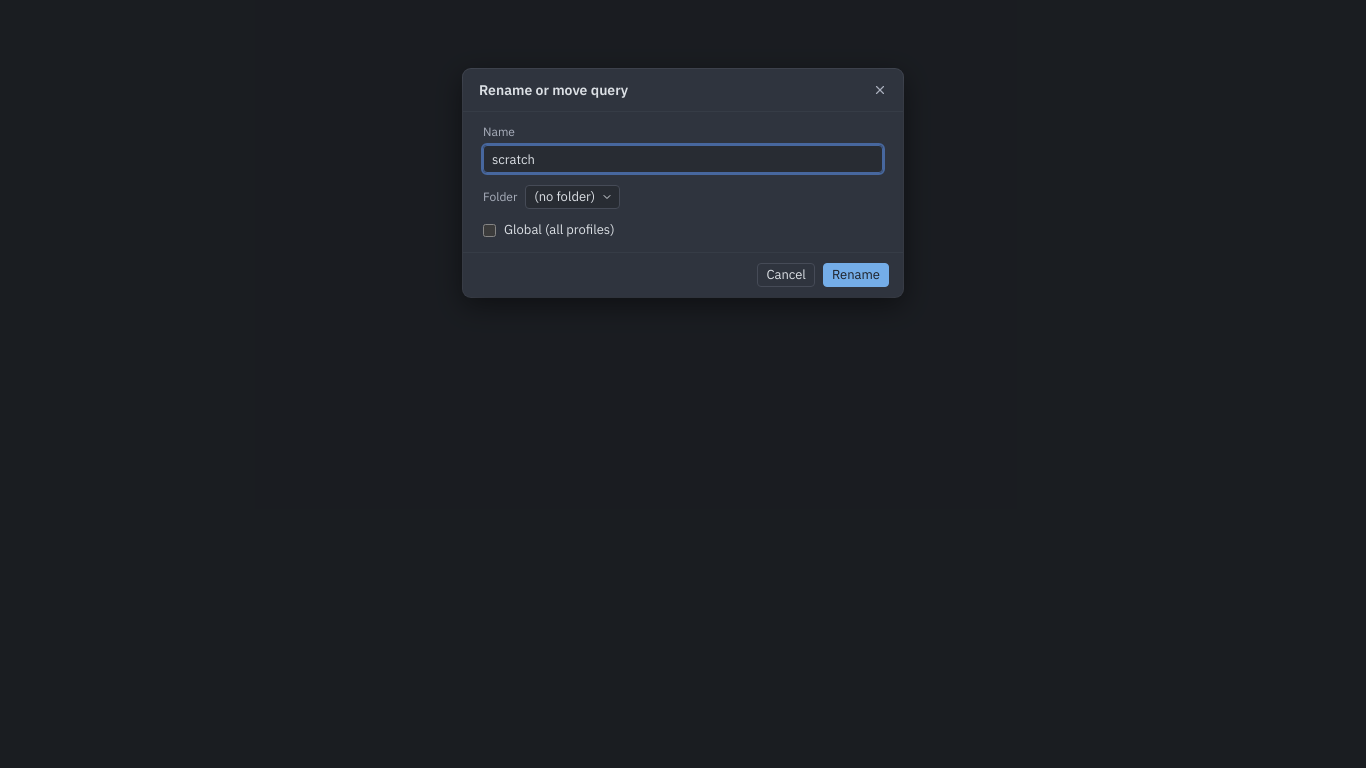
Test: SaveQueryDialog › rename mode › blocks a name that exists but not its own name
Expected: the button "(no folder)" is shown, [525,185,620,209]
Replace the text in the field labelled "Name" with "reports/daily" at (683, 159), box [483,145,883,173]
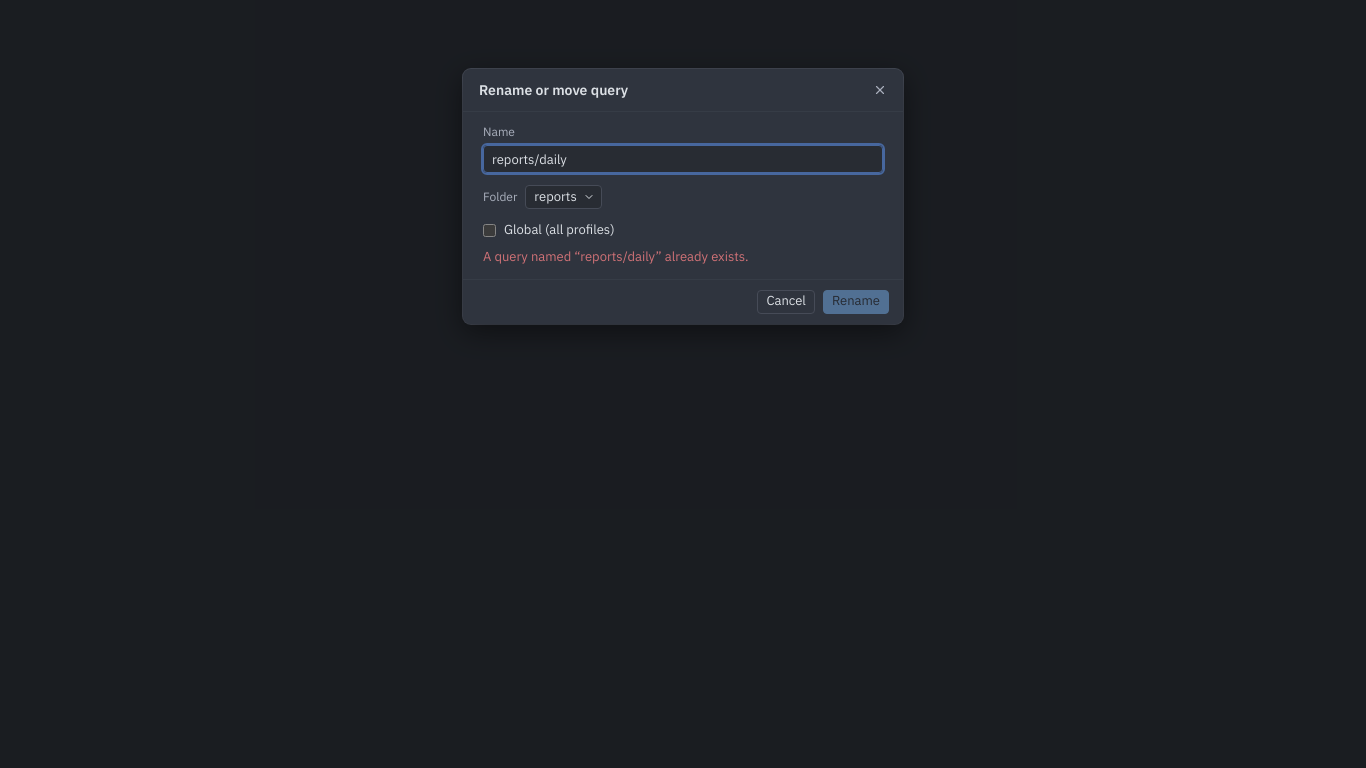
Now the button "Rename" is disabled, box [823,290,889,314]
Now the message shows "already exists", box [483,248,749,265]
